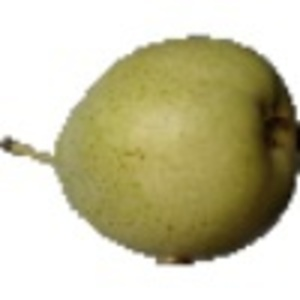pera: (1, 34, 300, 269)
